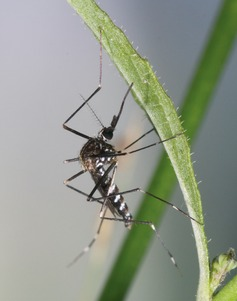dengue_mosquito: (62, 62, 204, 266)
